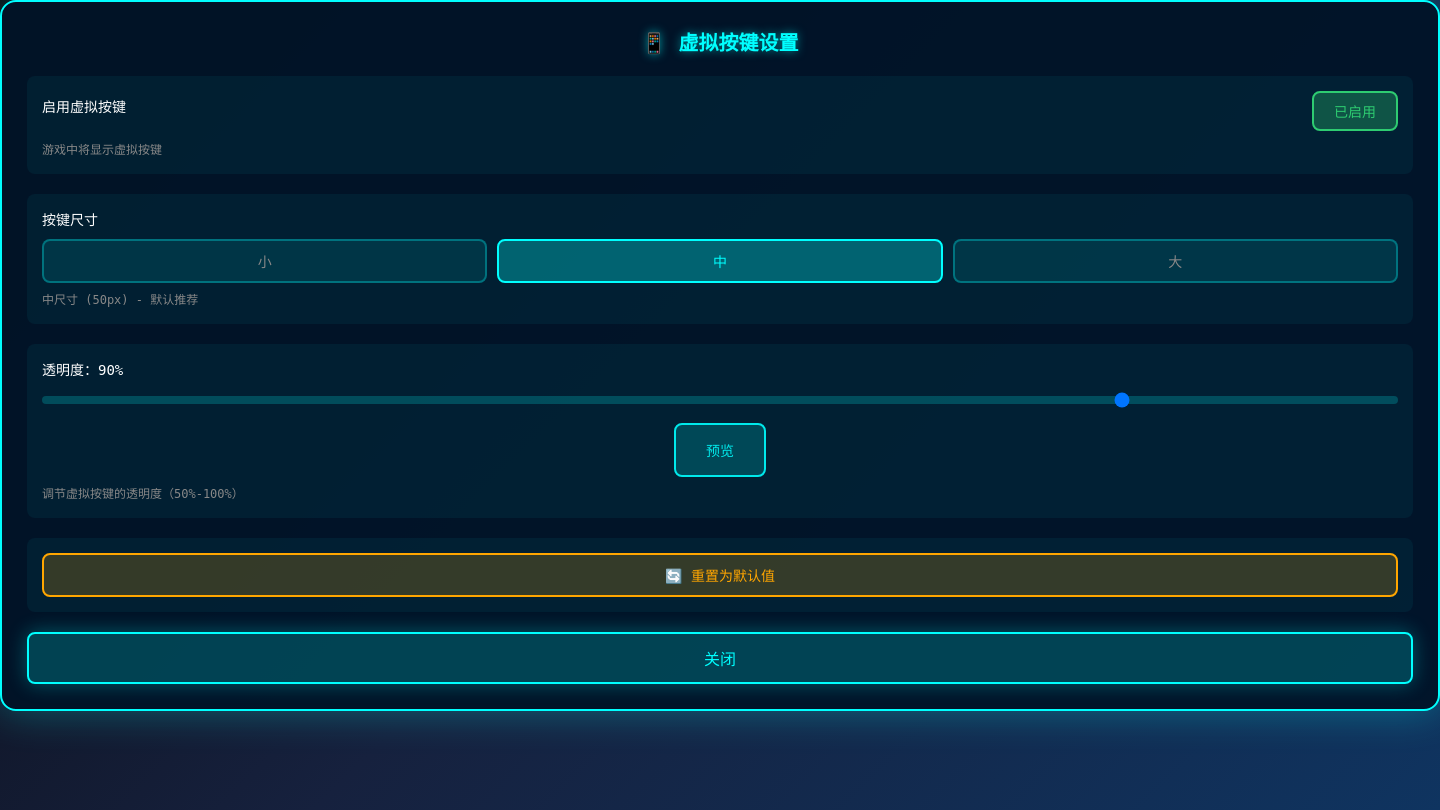
Test: MobileControlsSettingsPanel › 显示大尺寸提示
Step 1. Click the button "大" → point(1175, 261), box [953, 239, 1398, 283]
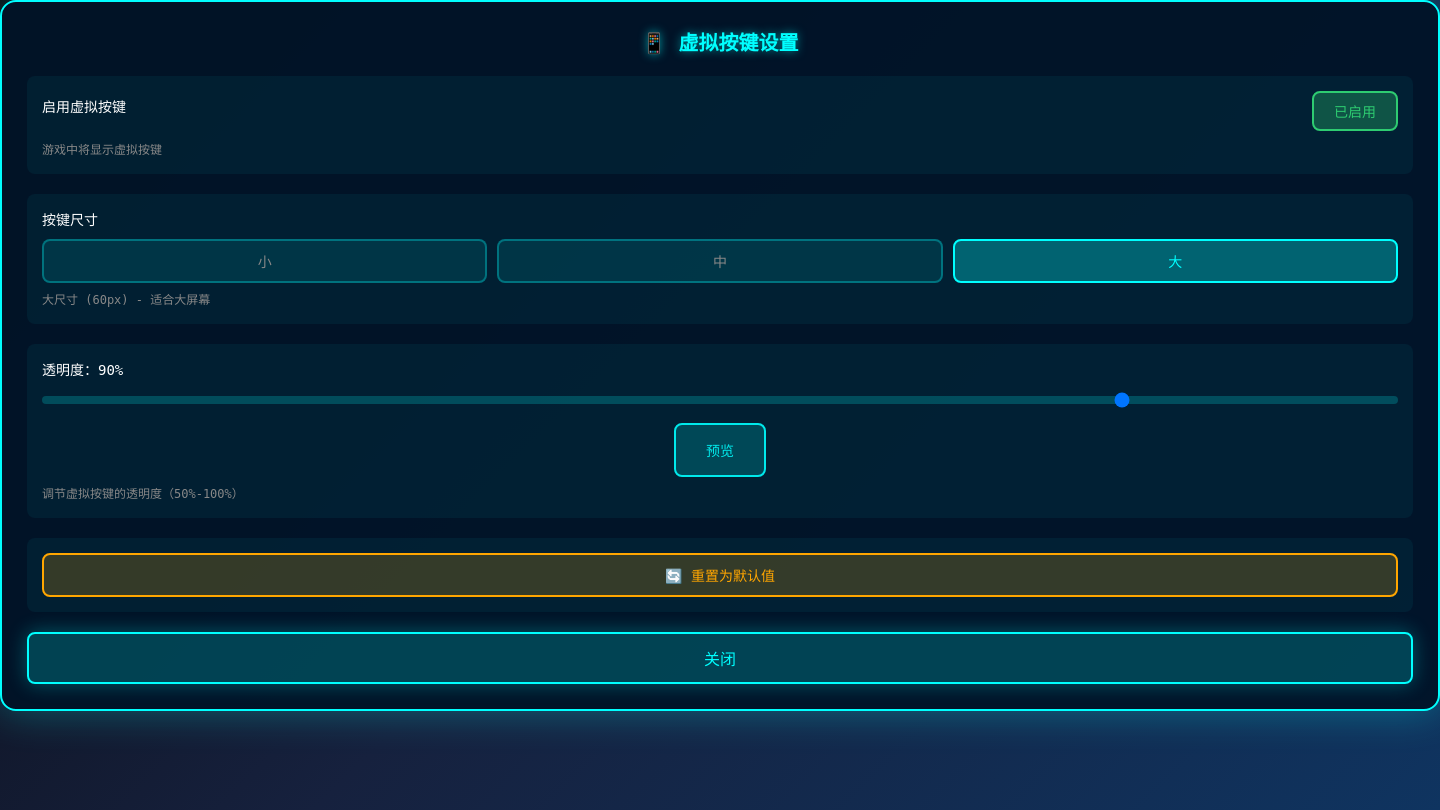
Check: the text "大尺寸 (60px) - 适合大屏幕" is shown, box [42, 293, 210, 307]
